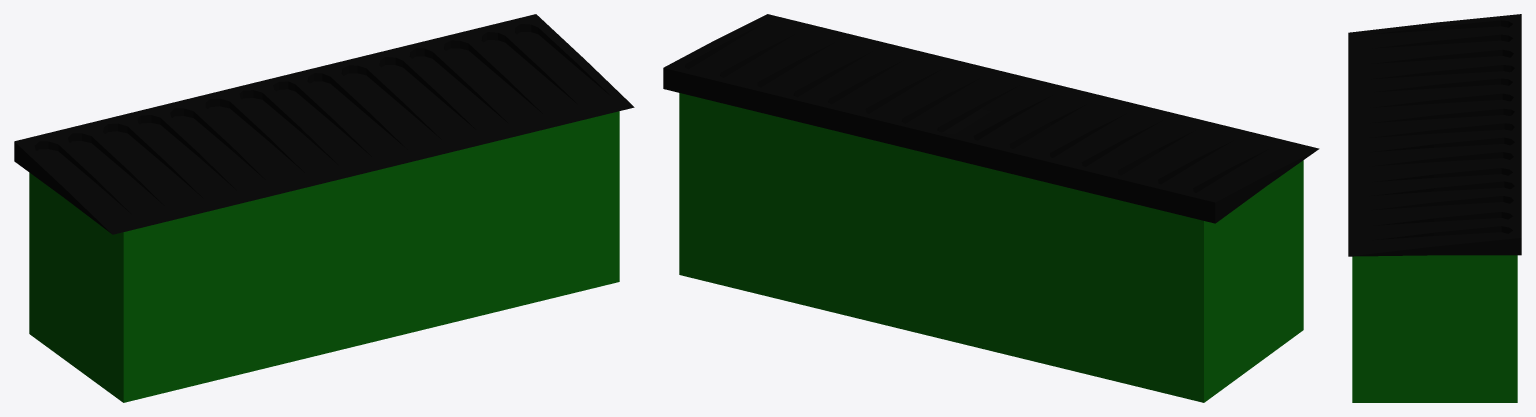
The model's file is greed dumpster.fbx.
The picture shows the model from 3 angles, left to right: view 1: azimuth 30°, elevation 25°; view 2: azimuth 150°, elevation 25°; view 3: azimuth 270°, elevation 25°; orthographic projection. The views are drawn at different scales.
Parts seen in each view (by area): view 1: Cube, Cube.001; view 2: Cube, Cube.001; view 3: Cube.001, Cube.
Boxes of the visible parts, box(x1,y1,x2,y2) form: Cube: box(29, 111, 619, 402); Cube.001: box(14, 14, 634, 234); Cube: box(679, 93, 1303, 402); Cube.001: box(663, 14, 1319, 223); Cube.001: box(1348, 14, 1521, 256); Cube: box(1352, 255, 1517, 402).
Size of the model in its own units: 633 by 225 by 207.
